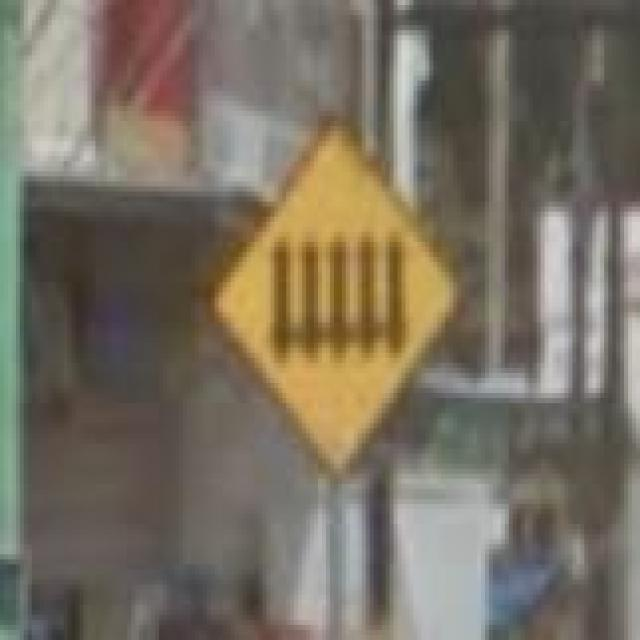traffic sign: (219, 141, 462, 468)
